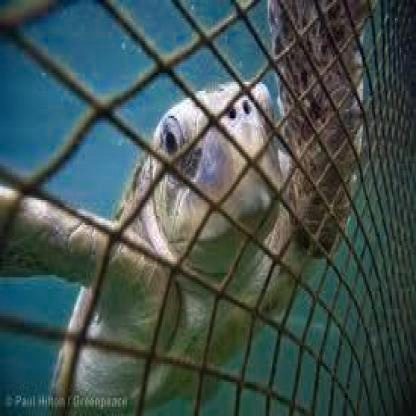net: (1, 2, 416, 411)
